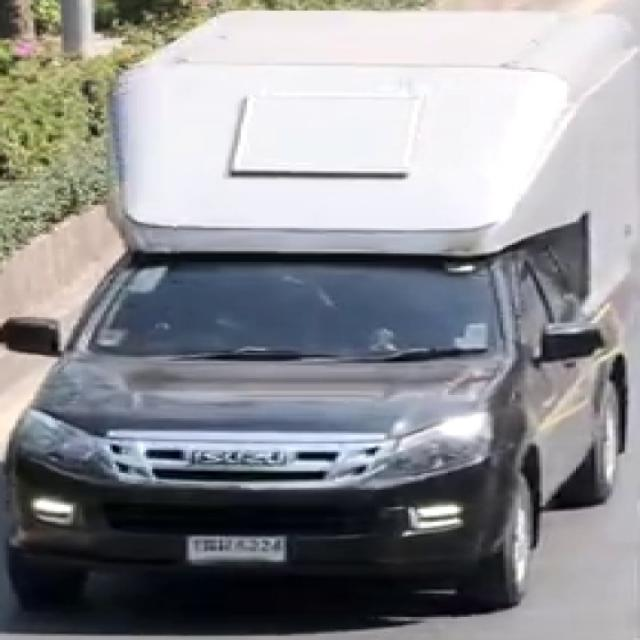plate: (188, 535, 291, 563)
